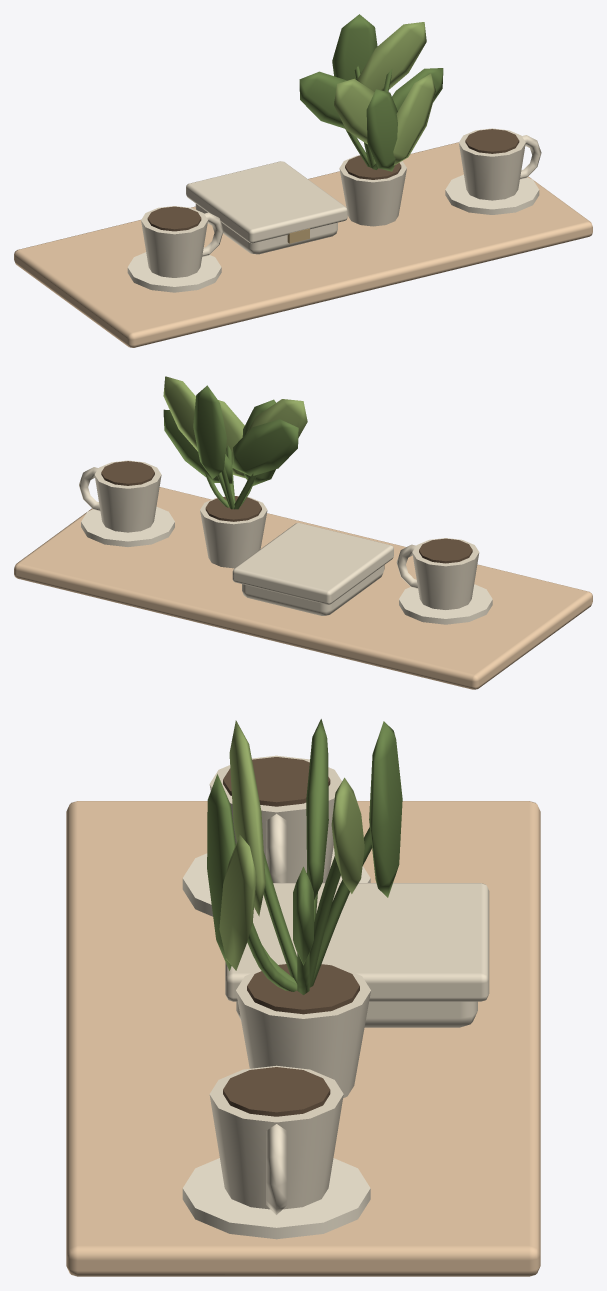
Rendered from living_ref_tea_tray.glb.
The picture shows the model from 3 angles, top to bottom: view 1: azimuth 30°, elevation 25°; view 2: azimuth 150°, elevation 25°; view 3: azimuth 270°, elevation 25°; orthographic projection. The views are drawn at different scales.
Bounding box in the file's own units: 1.2 × 0.5025 × 0.53.
